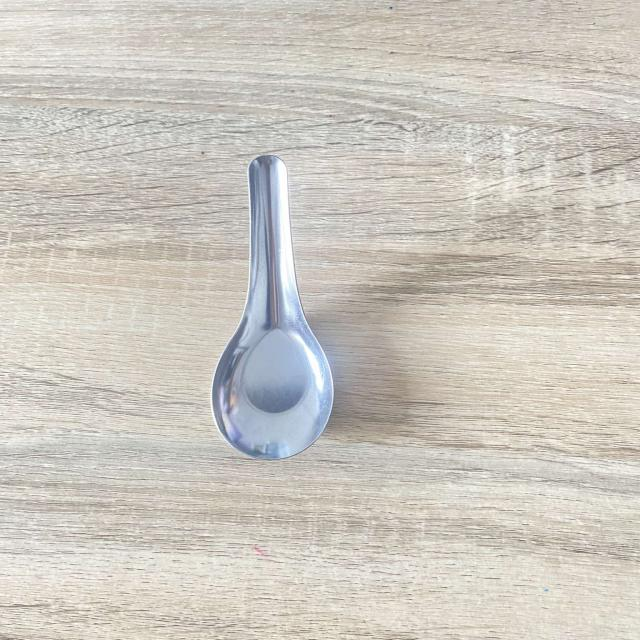short-spoon: (192, 147, 363, 475)
